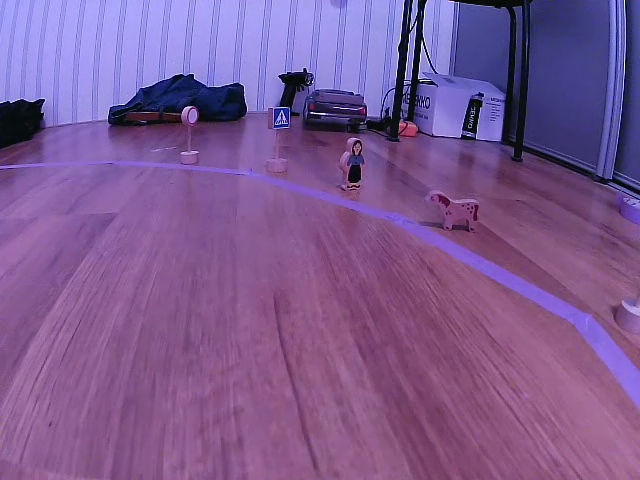mens: (339, 135, 367, 193)
paard: (425, 190, 481, 233)
wegdicht: (183, 107, 199, 128)
zebrapad: (268, 107, 291, 128)
